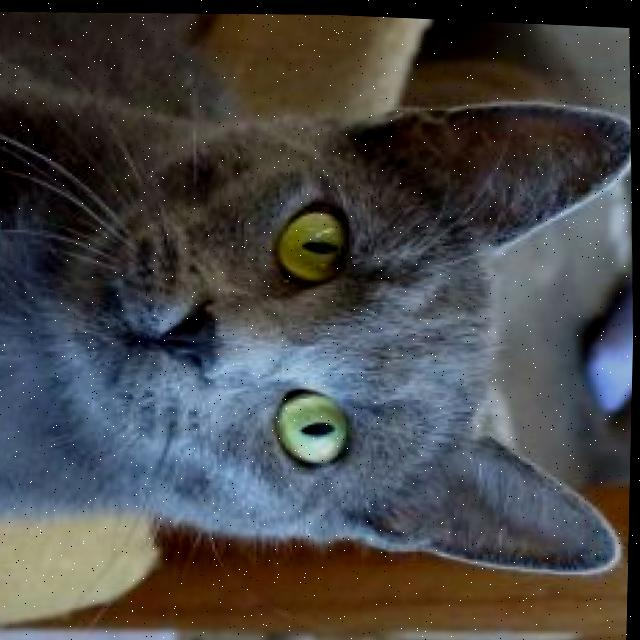Russian Blue: (0, 0, 640, 592)
